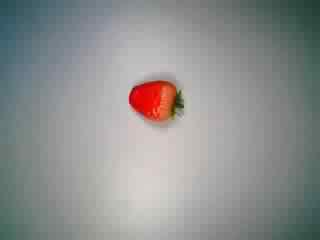strawberry: (121, 71, 189, 135)
